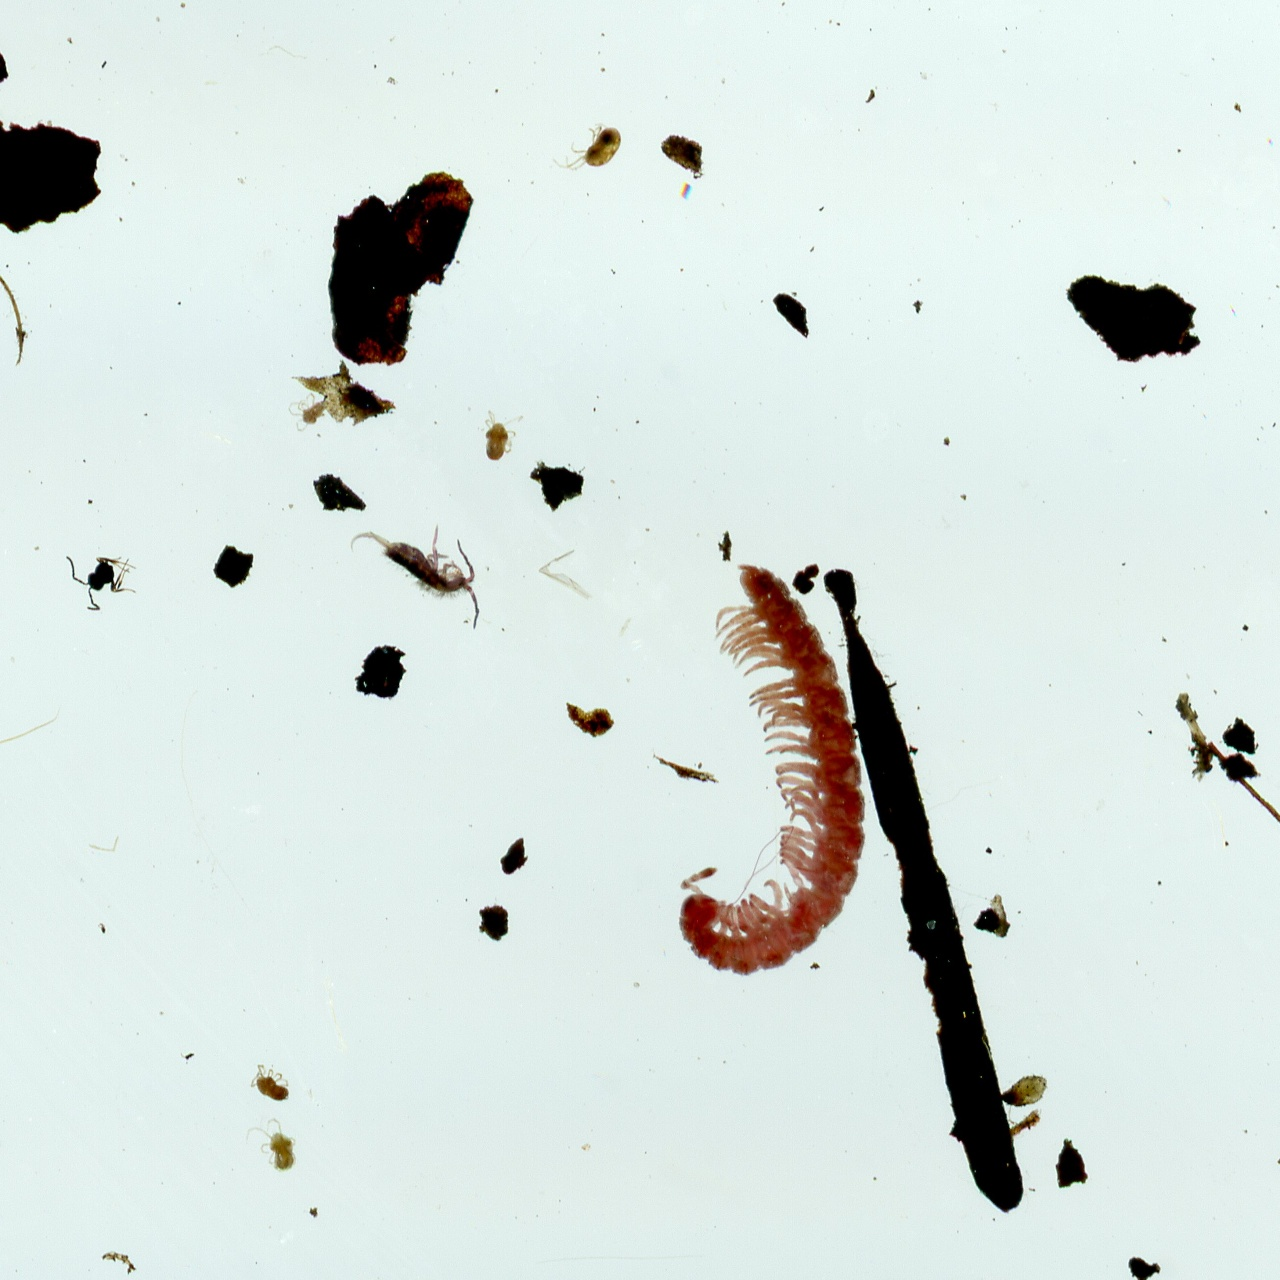arthropod: (611, 540, 906, 1005), (349, 523, 482, 632), (62, 551, 137, 613), (549, 120, 625, 178), (243, 1114, 298, 1175), (481, 406, 526, 463), (248, 1061, 291, 1104), (287, 390, 329, 433)
